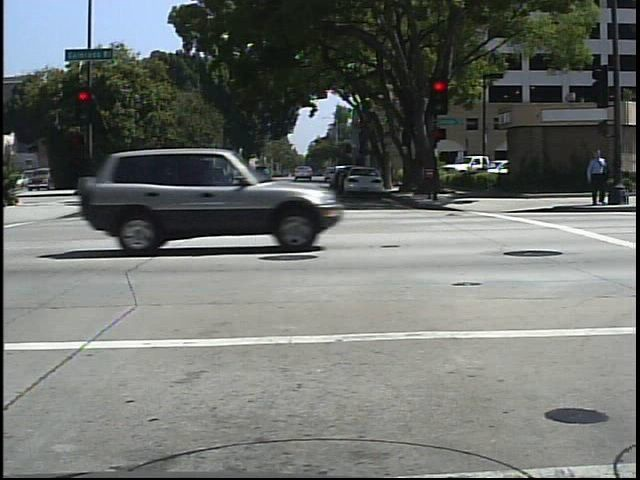person: (139, 155, 172, 219), (586, 143, 608, 209)
